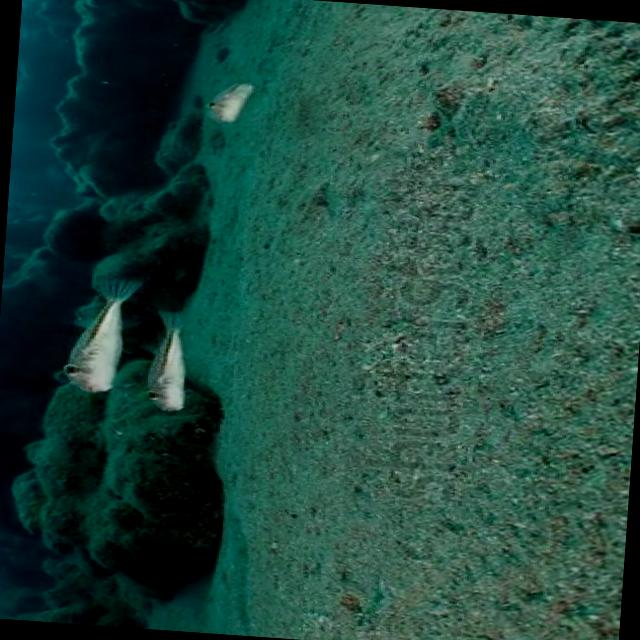Balon Baligi: (44, 270, 140, 394), (132, 320, 200, 418), (177, 68, 266, 130)
